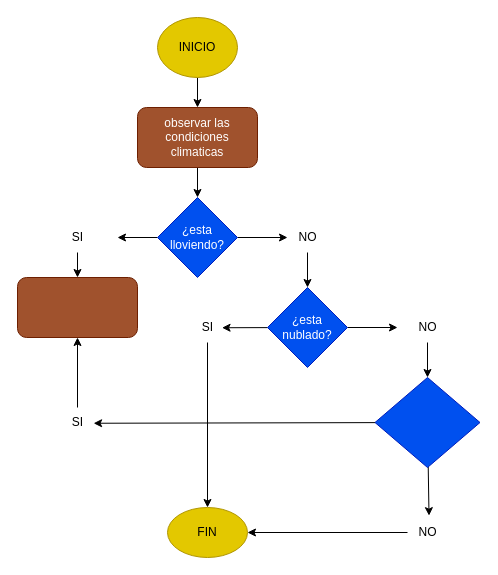
This 498x575 diagram has some shape labels left out. The box of each missing label's shape, as (x1, y1, x2, y2) in pixels:
LLEVAR PARAGUAS: (16, 276, 138, 338)
¿hay pronostico de lluvia?: (374, 376, 480, 468)
